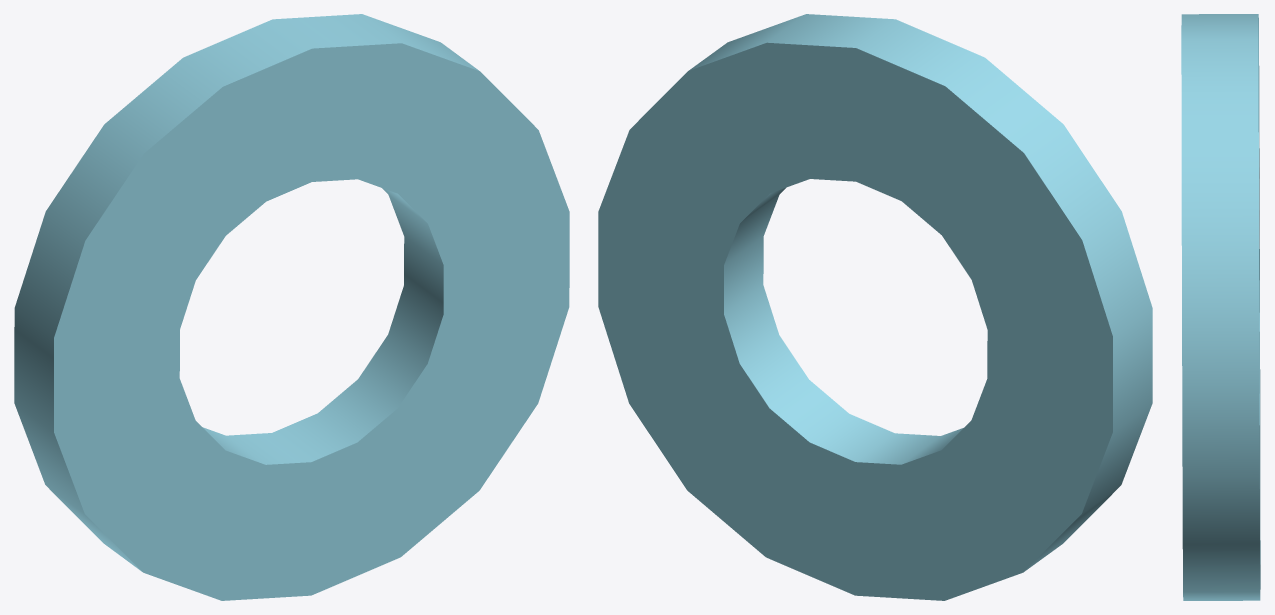
Rendered from item.FBX.
3 renders of one model, left to right at view 1: azimuth 30°, elevation 25°; view 2: azimuth 150°, elevation 25°; view 3: azimuth 270°, elevation 25°, orthographic. The views are drawn at different scales.
Visible parts, largest first — view 1: Tube001; view 2: Tube001; view 3: Tube001.
Part boxes in pixels (<box>): Tube001: <box>14,14,569,600</box>; Tube001: <box>598,14,1152,600</box>; Tube001: <box>1181,14,1260,600</box>.
Size of the model in its own units: 91.97 by 93.43 by 12.54.
Materials: 1 (1 with a texture image).
